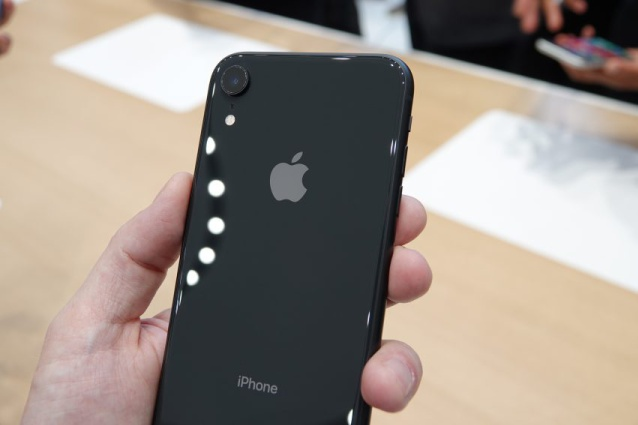apple: (255, 142, 329, 219)
